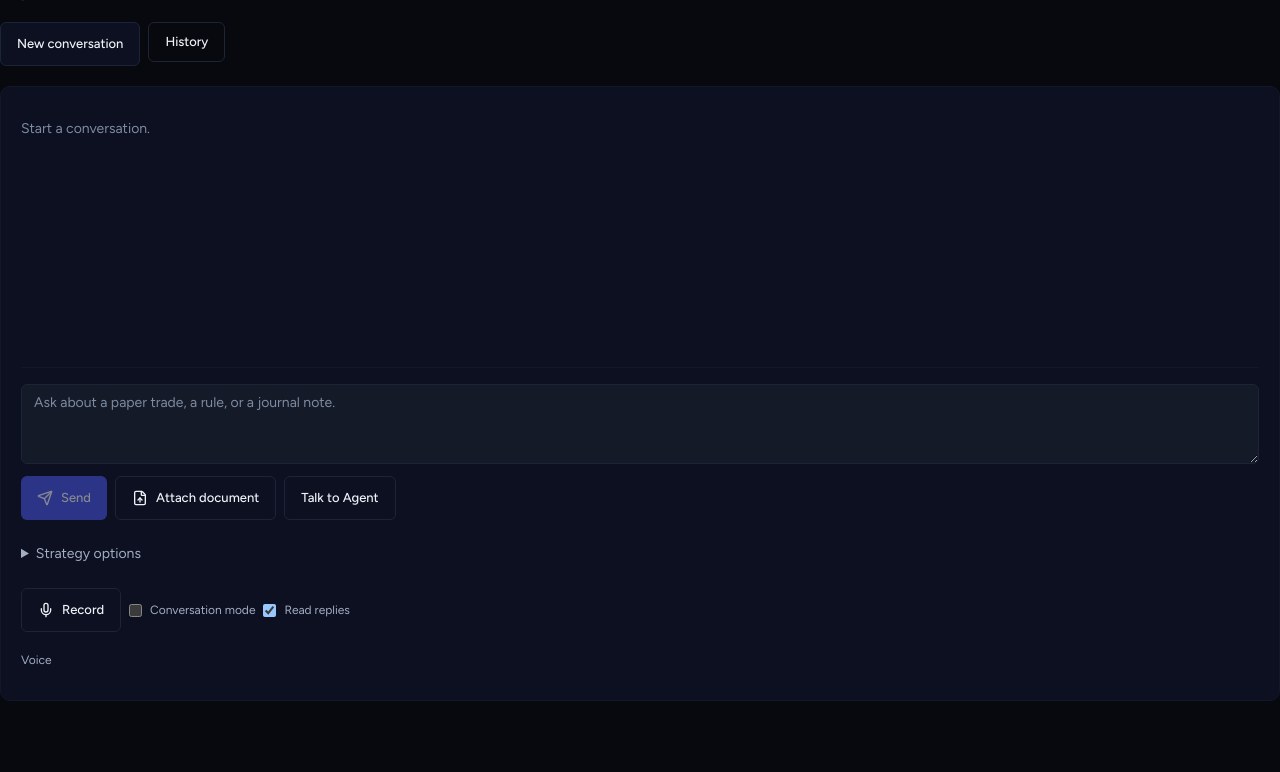
Test case: Agent workspace › shows an acknowledged reply with pending capture but retains the original voice request for recovery
Click the checkbox labelled "Conversation mode": (136, 610) [129,604,142,616]
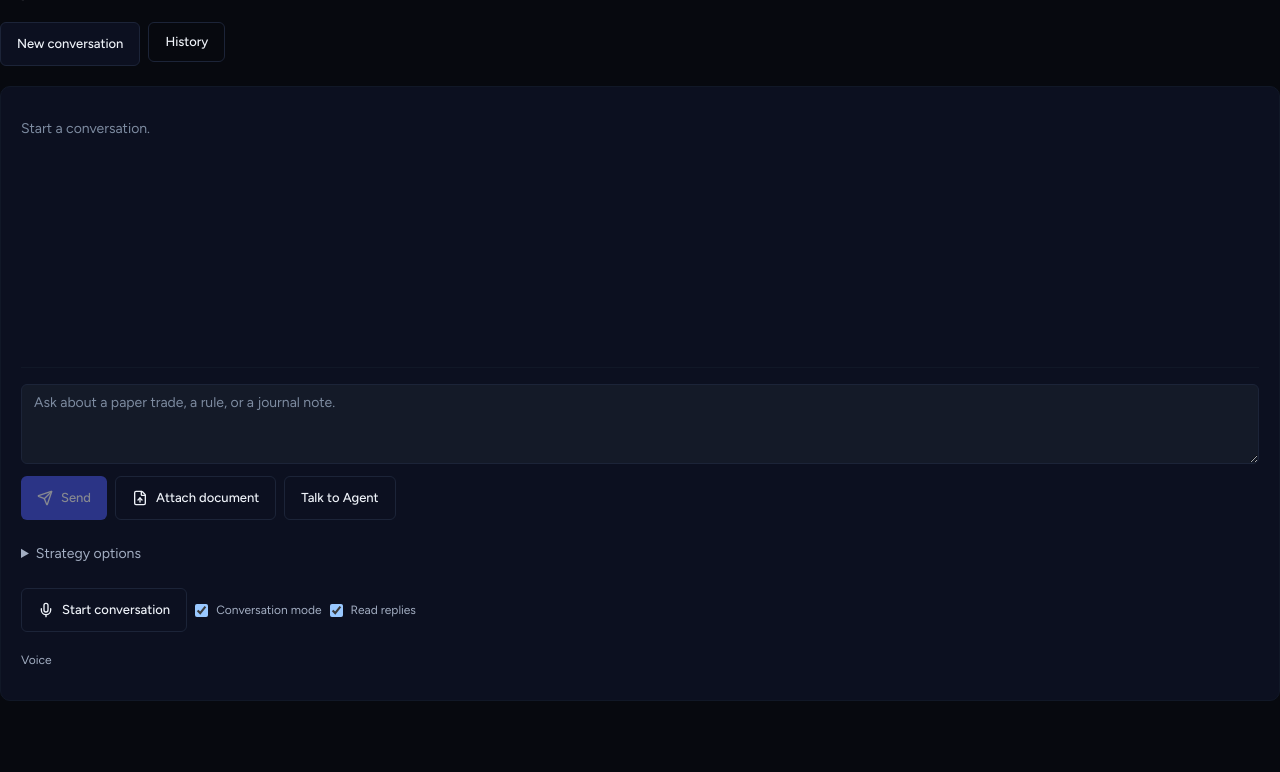
Click the button "Start conversation": (104, 610) [21,588,187,632]
(page scrolled)
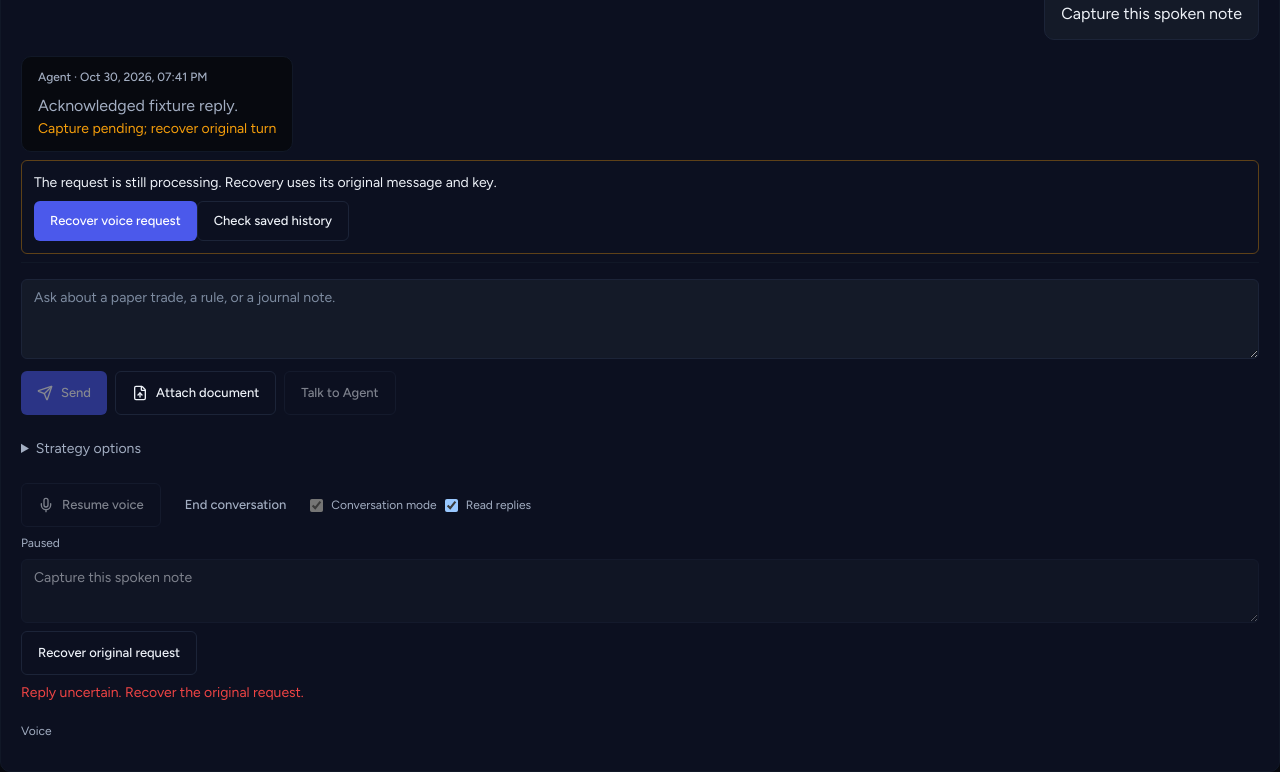
Expected: the text "Acknowledged fixture reply." is shown, [38,96,238,115]
Click the button "Recover original request": (109, 653) [21,631,197,675]
(page scrolled)
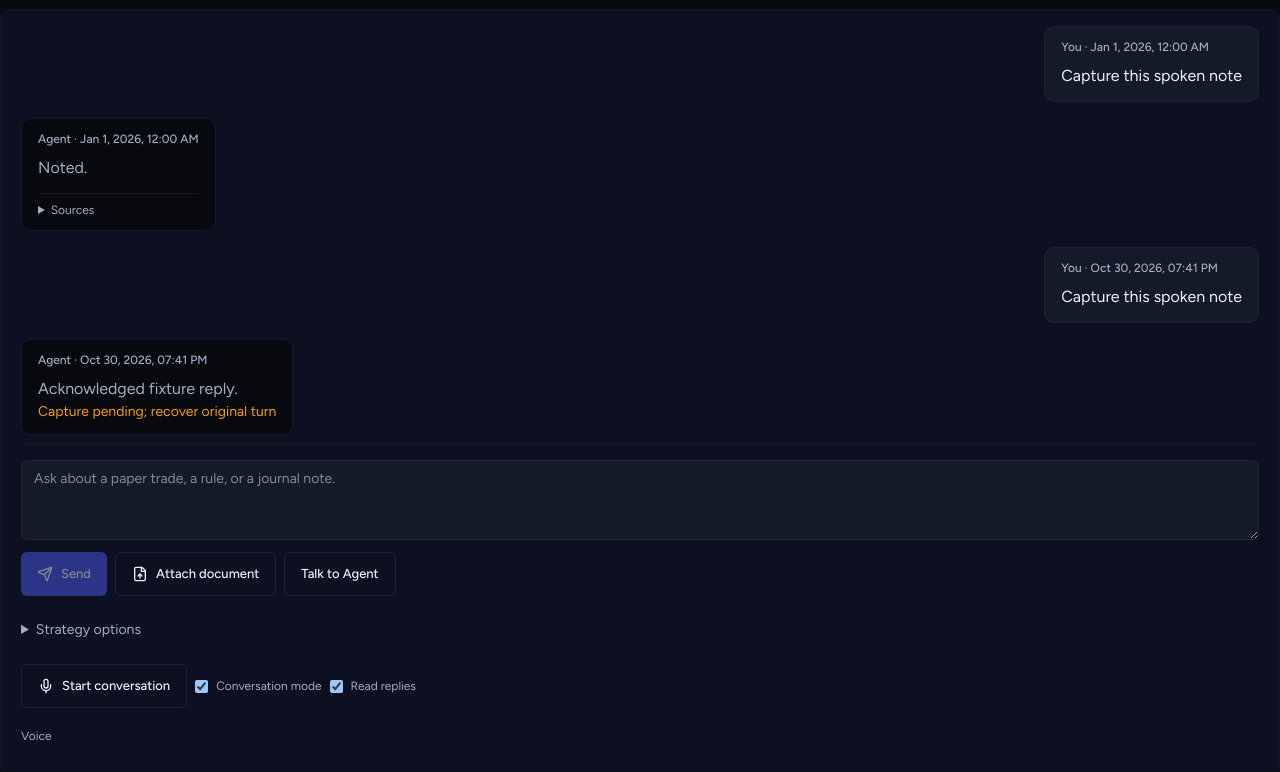
Expected: the button "Start conversation" is enabled, [21,664,187,708]
